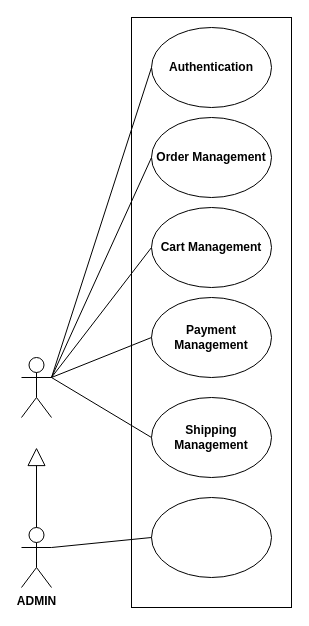
Some shapes in this 309 by 626 pixel diagram are drawn without their labels. Each missing label, with the centre of its shape:
"Product Management" goes at (211,537).
"USER" goes at (36,387).
